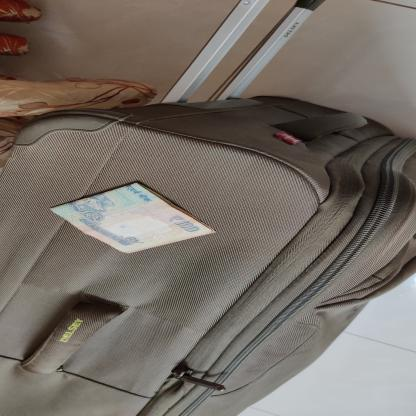Old100Back: (50, 182, 216, 254)
